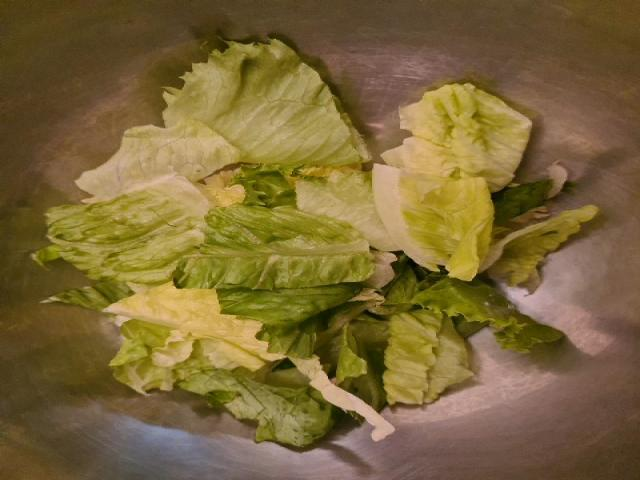kichen waste: (35, 36, 597, 446)
